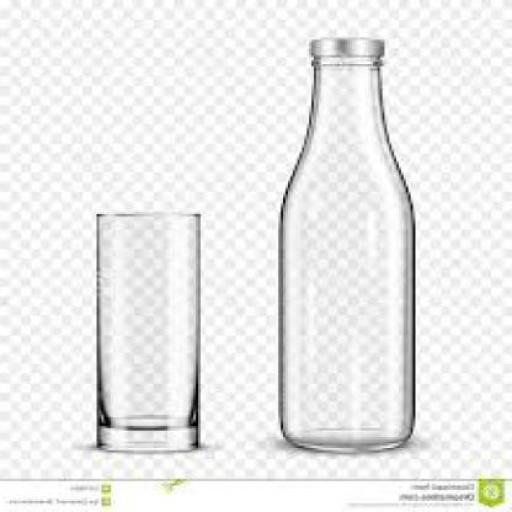glass: (281, 55, 417, 448), (101, 210, 205, 452)
metal: (104, 419, 202, 450), (313, 35, 385, 57)
